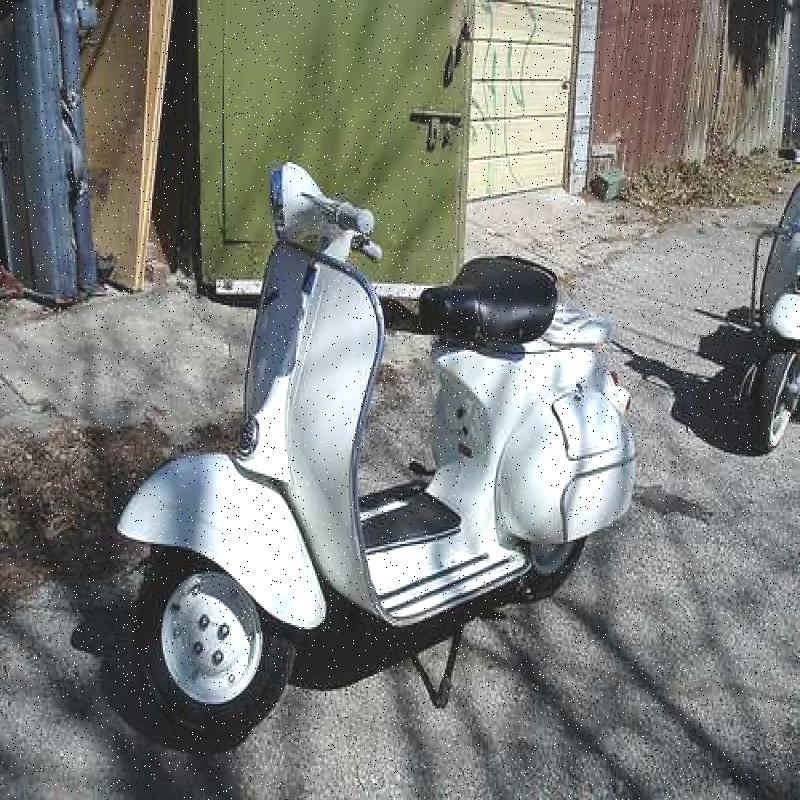bike: (88, 162, 665, 692)
